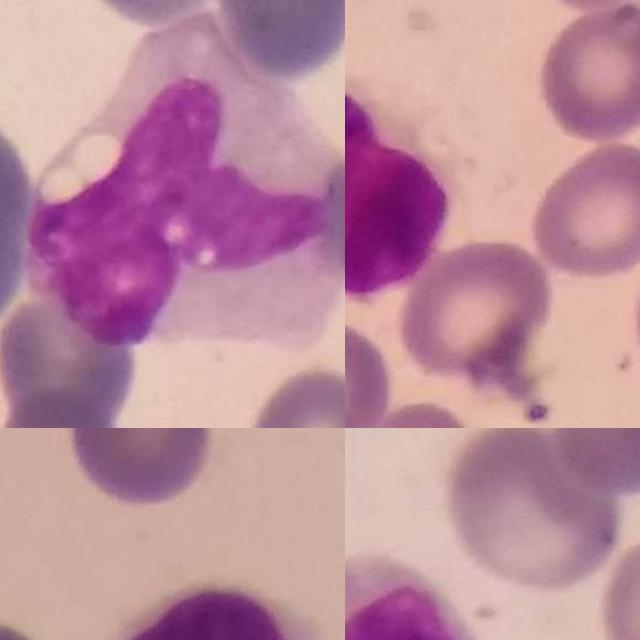Lymphocyte: (345, 75, 458, 302), (102, 581, 338, 640)
Monocyte: (21, 9, 345, 347), (345, 548, 501, 640)
